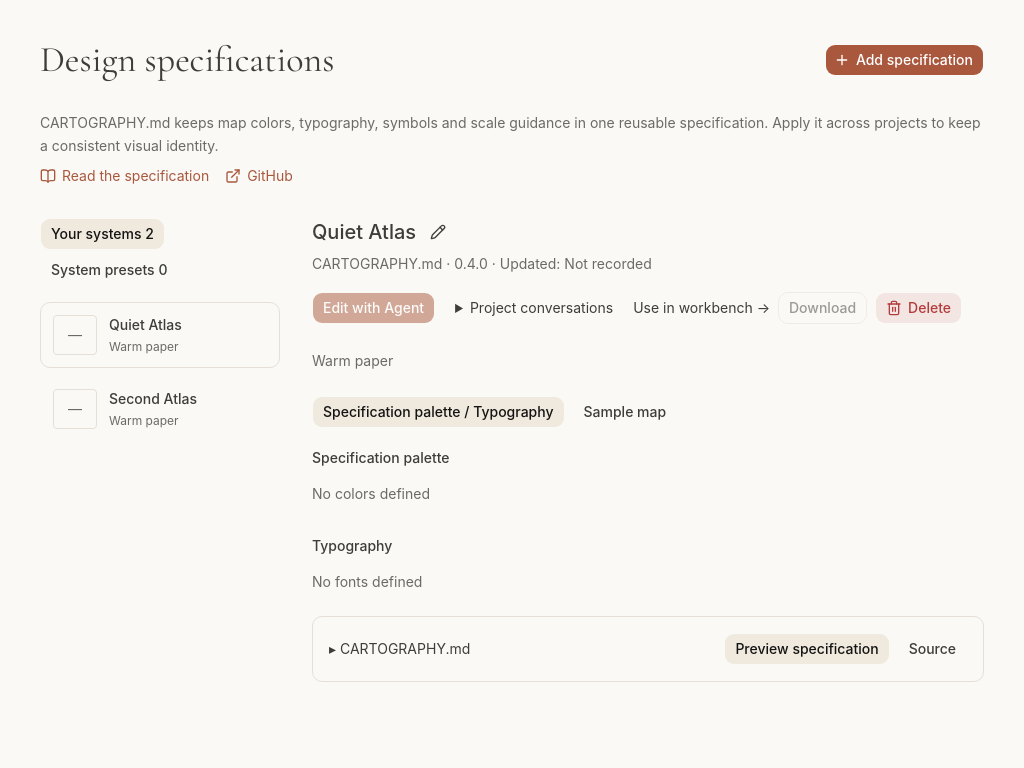
Test: keeps the specification selector beside details and collapses the original document
Expected: the heading "Quiet Atlas" is shown, 312,218 -> 416,246
Click the button with aria-label "Preview specification: Second Atlas". click: (160, 408)
box: 40,376 -> 280,442
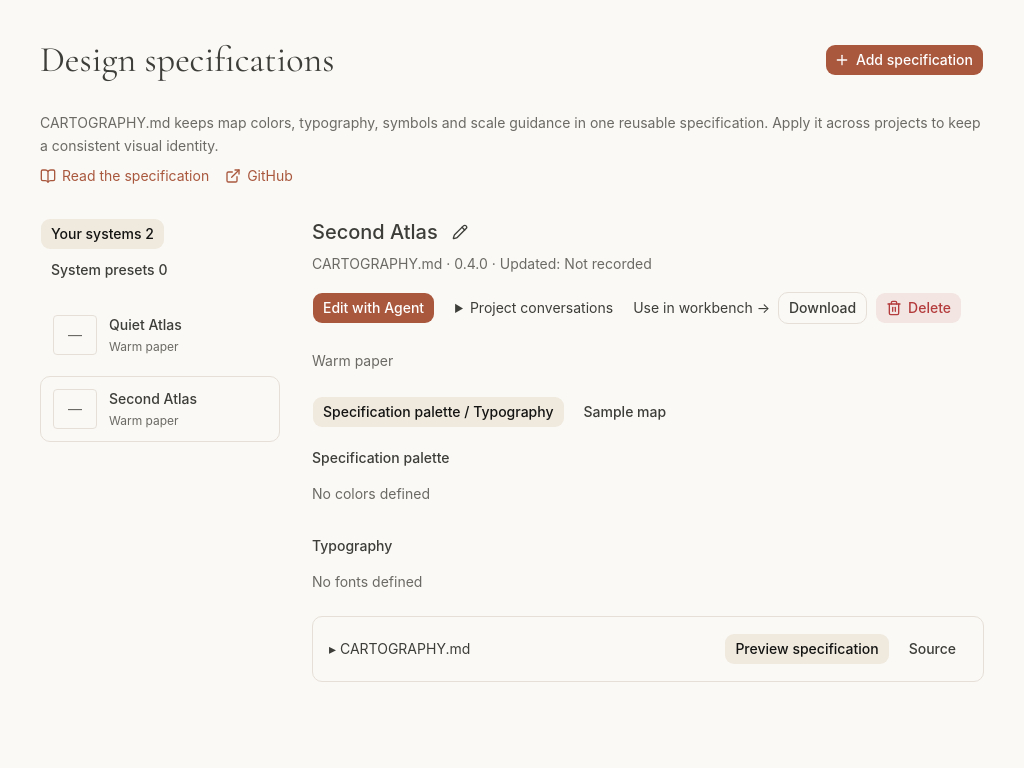
Expected: the button with aria-label "Preview specification: Quiet Atlas" is shown, 40,302 -> 280,368
Expected: the heading "Second Atlas" is shown, 312,218 -> 438,246
